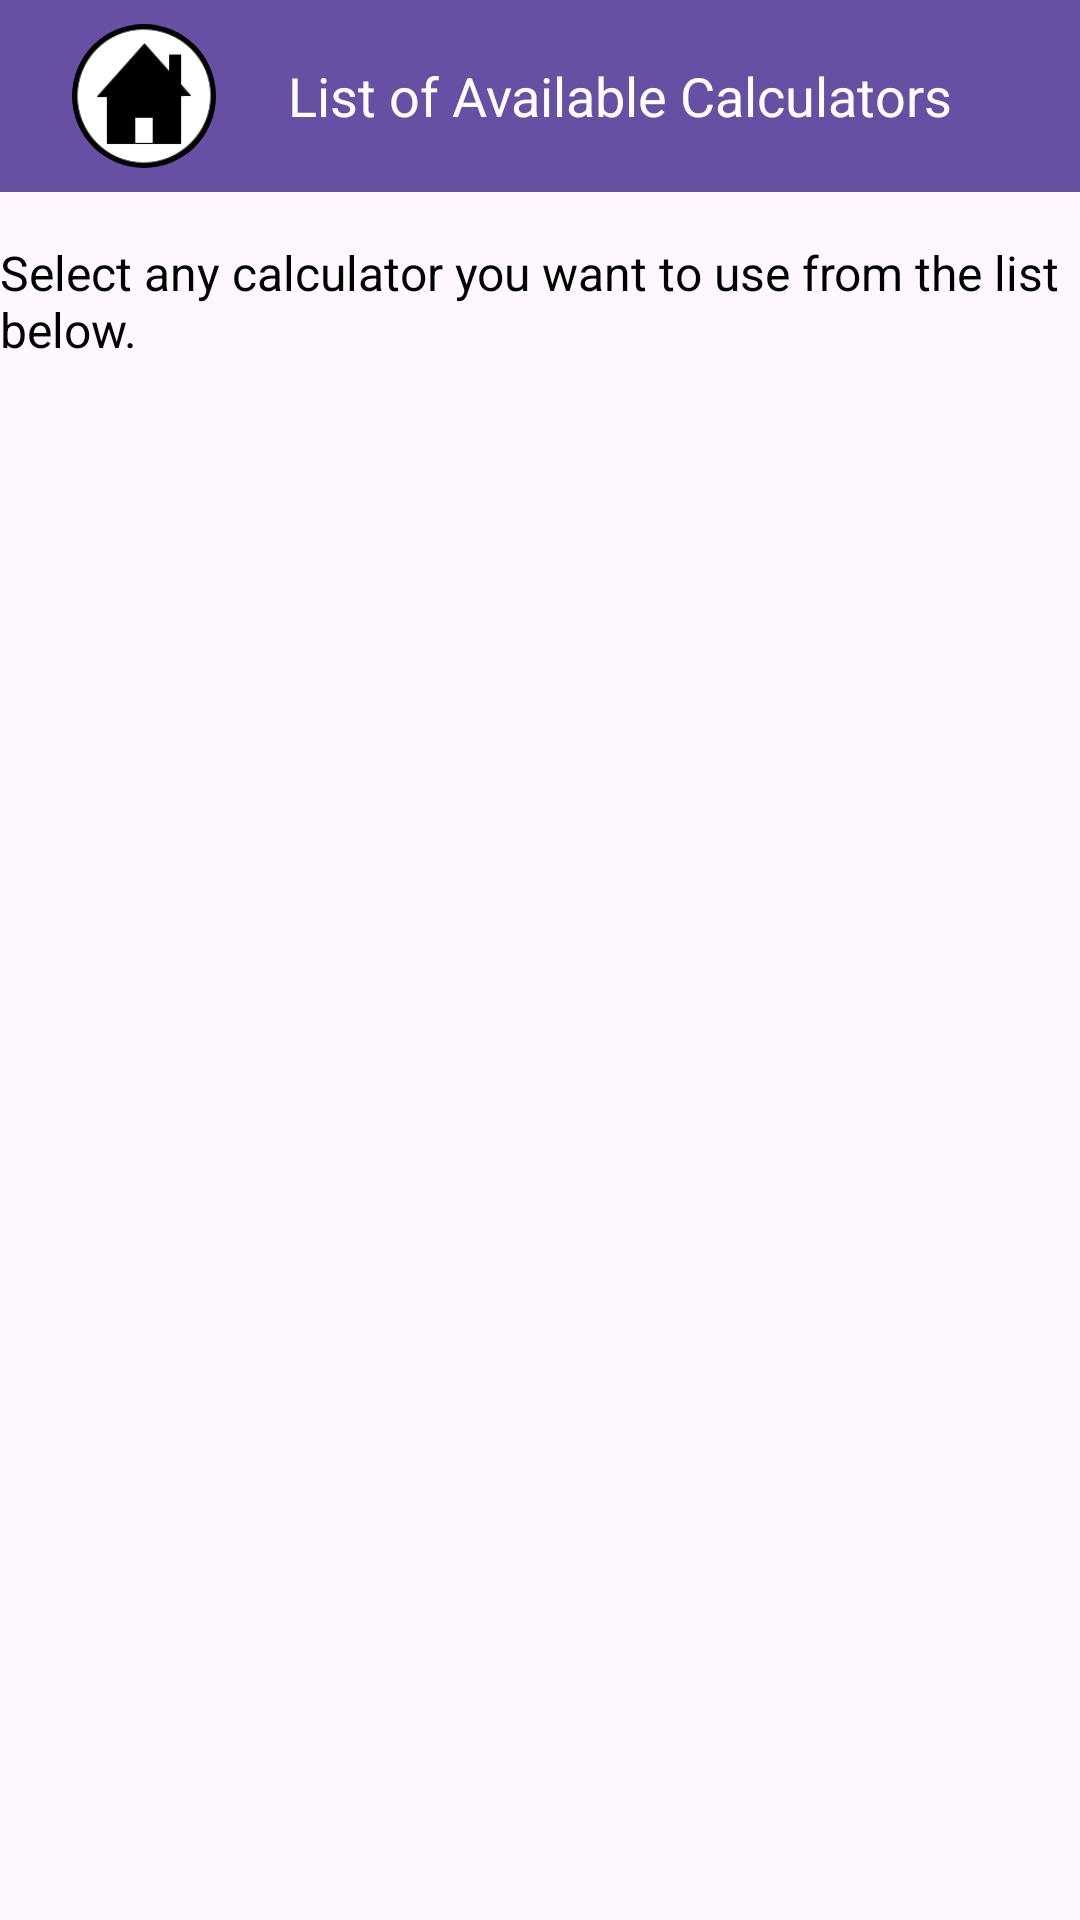

Where icons sit on this 1080 x 1920 app screen, as bbox=[x1, y1, x2, y2]:
Home: bbox=[72, 24, 216, 168]
